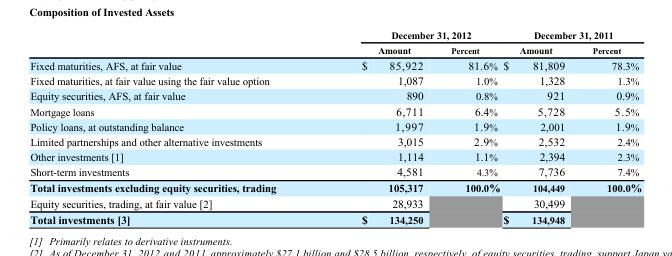table: (29, 28, 641, 225)
table column: (29, 28, 318, 225), (318, 28, 436, 225), (501, 28, 578, 225), (436, 28, 501, 225), (578, 28, 641, 225)
table column header: (29, 28, 641, 56)
table row: (29, 56, 641, 72), (29, 87, 641, 103), (29, 163, 641, 179), (29, 179, 641, 195), (29, 72, 641, 87), (29, 103, 641, 118), (29, 118, 641, 133), (29, 133, 641, 148), (29, 148, 641, 163), (29, 195, 641, 210), (29, 210, 641, 225), (29, 28, 641, 42), (29, 42, 641, 56)
table spanning cell: (318, 28, 501, 42), (501, 28, 641, 42)
